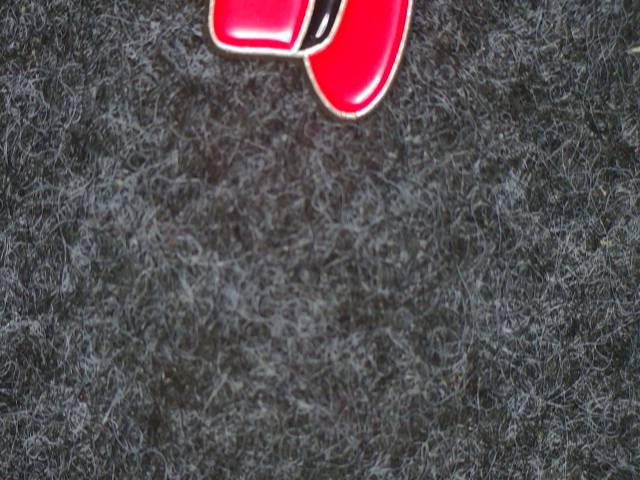Red-Hat: (187, 0, 428, 154)
